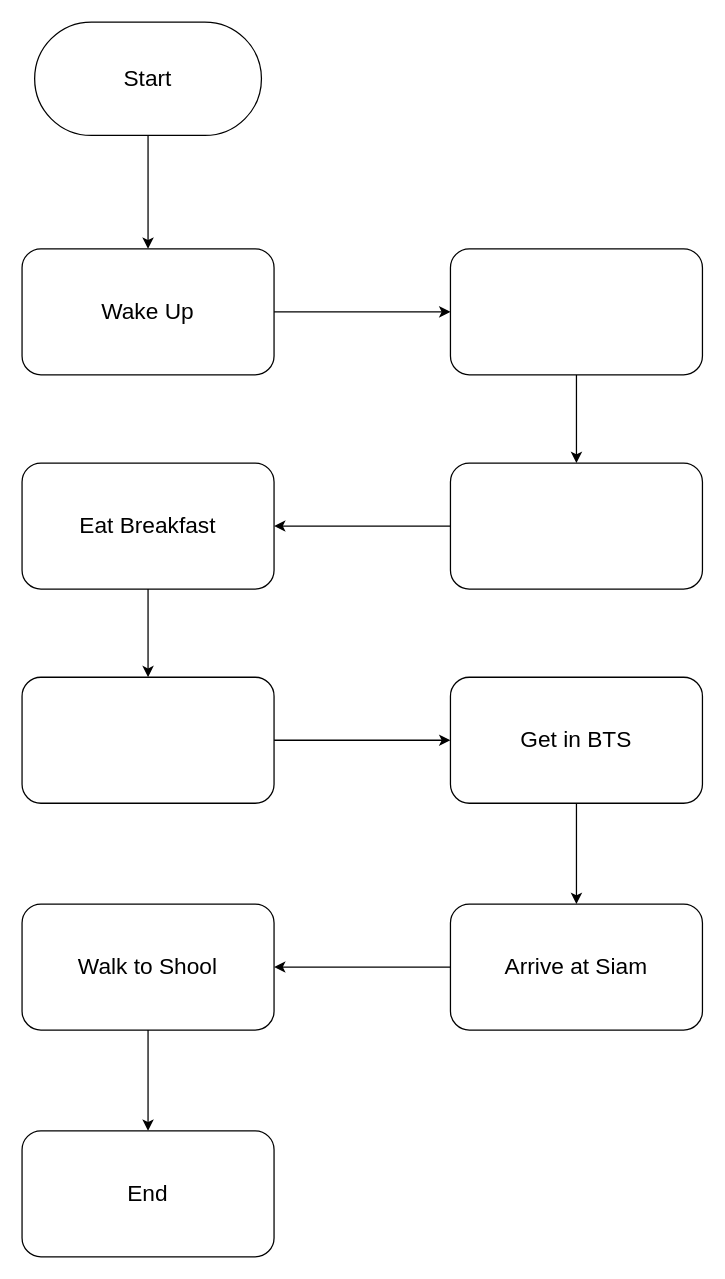
Some shapes in this 725 by 1279 pixel diagram are drawn without their labels. The centre of each missing label's shape, as x and y in pixels:
Brush Teeth: point (575, 311)
Prepare to go to Bts: point (147, 739)
Take A Bath: point (575, 525)
